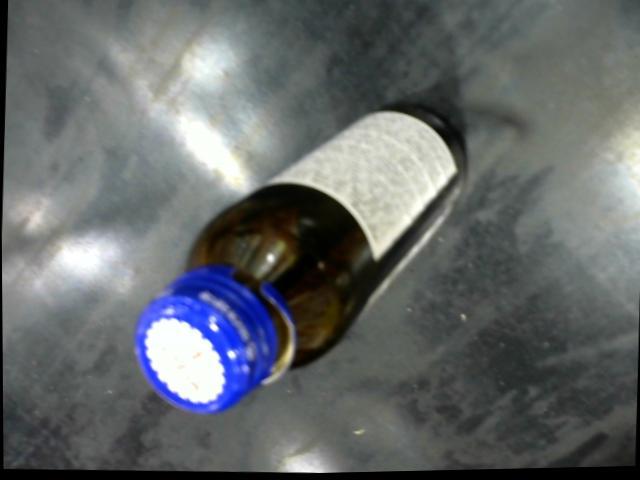glass: (126, 97, 478, 428)
